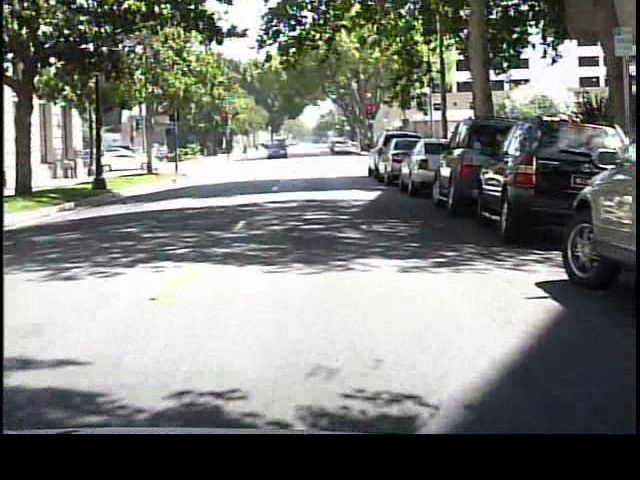person: (238, 142, 252, 164)
